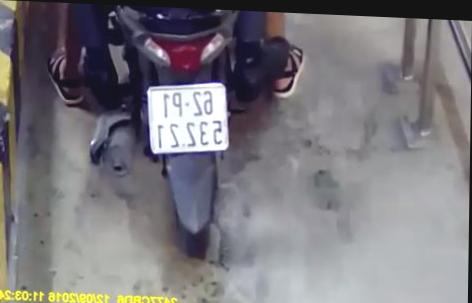License_Plate: (138, 74, 235, 159)
